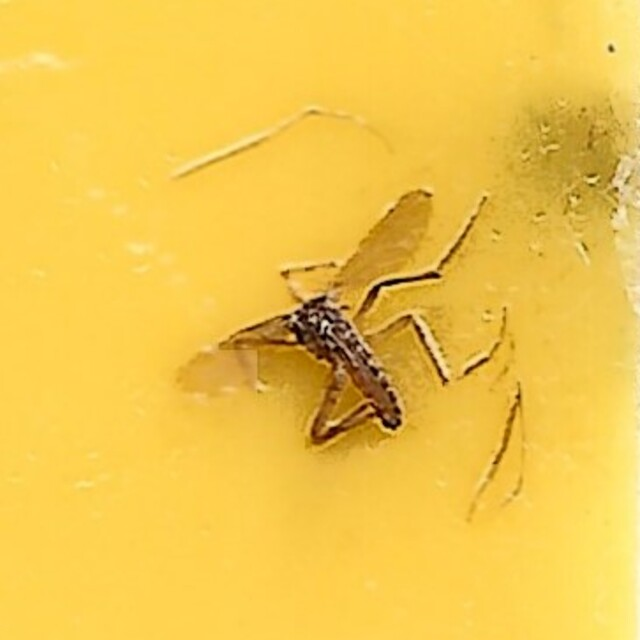Nematocera: (176, 187, 464, 453)
